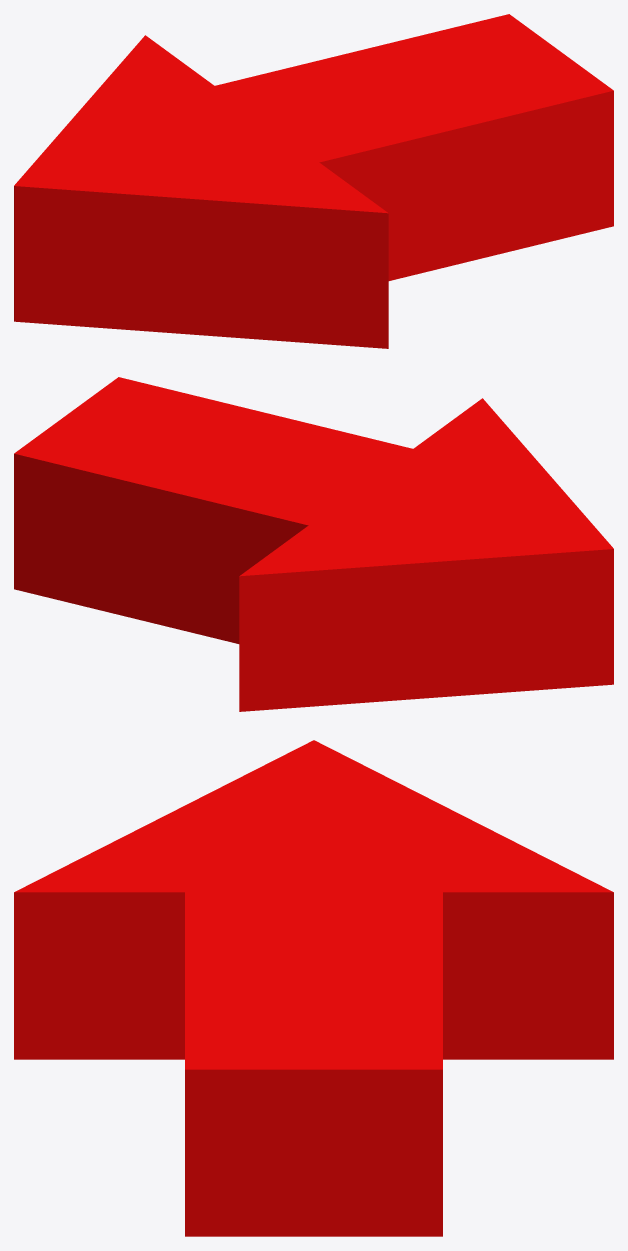
Rendered from arrow.fbx.
3 renders of one model, top to bottom at view 1: azimuth 30°, elevation 25°; view 2: azimuth 150°, elevation 25°; view 3: azimuth 270°, elevation 25°, orthographic. The views are drawn at different scales.
Visible parts, largest first — view 1: 큐브; view 2: 큐브; view 3: 큐브.
Boxes of the visible parts, box(x1,y1,x2,y2) form: 큐브: box(14, 14, 613, 348); 큐브: box(14, 377, 613, 711); 큐브: box(14, 740, 613, 1236).
Bounding box in the file's own units: 121 × 28.62 × 93.07.
